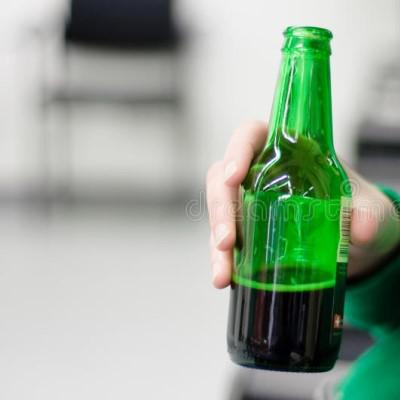beer: (227, 30, 344, 374)
